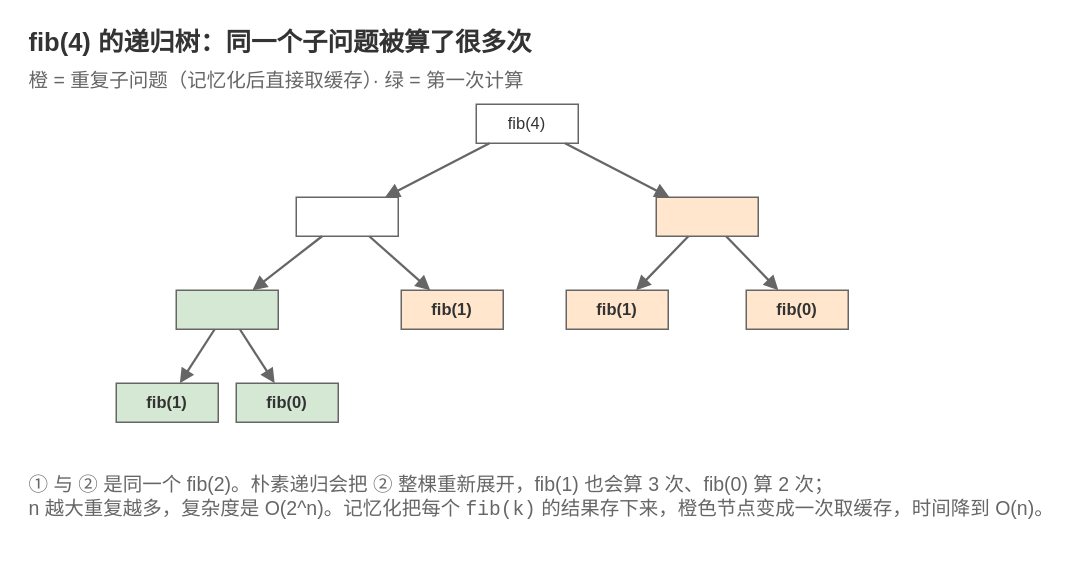
Image size: 1079x561. Some labels were removed from this diagram. Each missing label, with the centre of its shape:
"fib(3)" belongs at (346,216).
"① fib(2)" belongs at (226,309).
"② fib(2)" belongs at (706,216).
